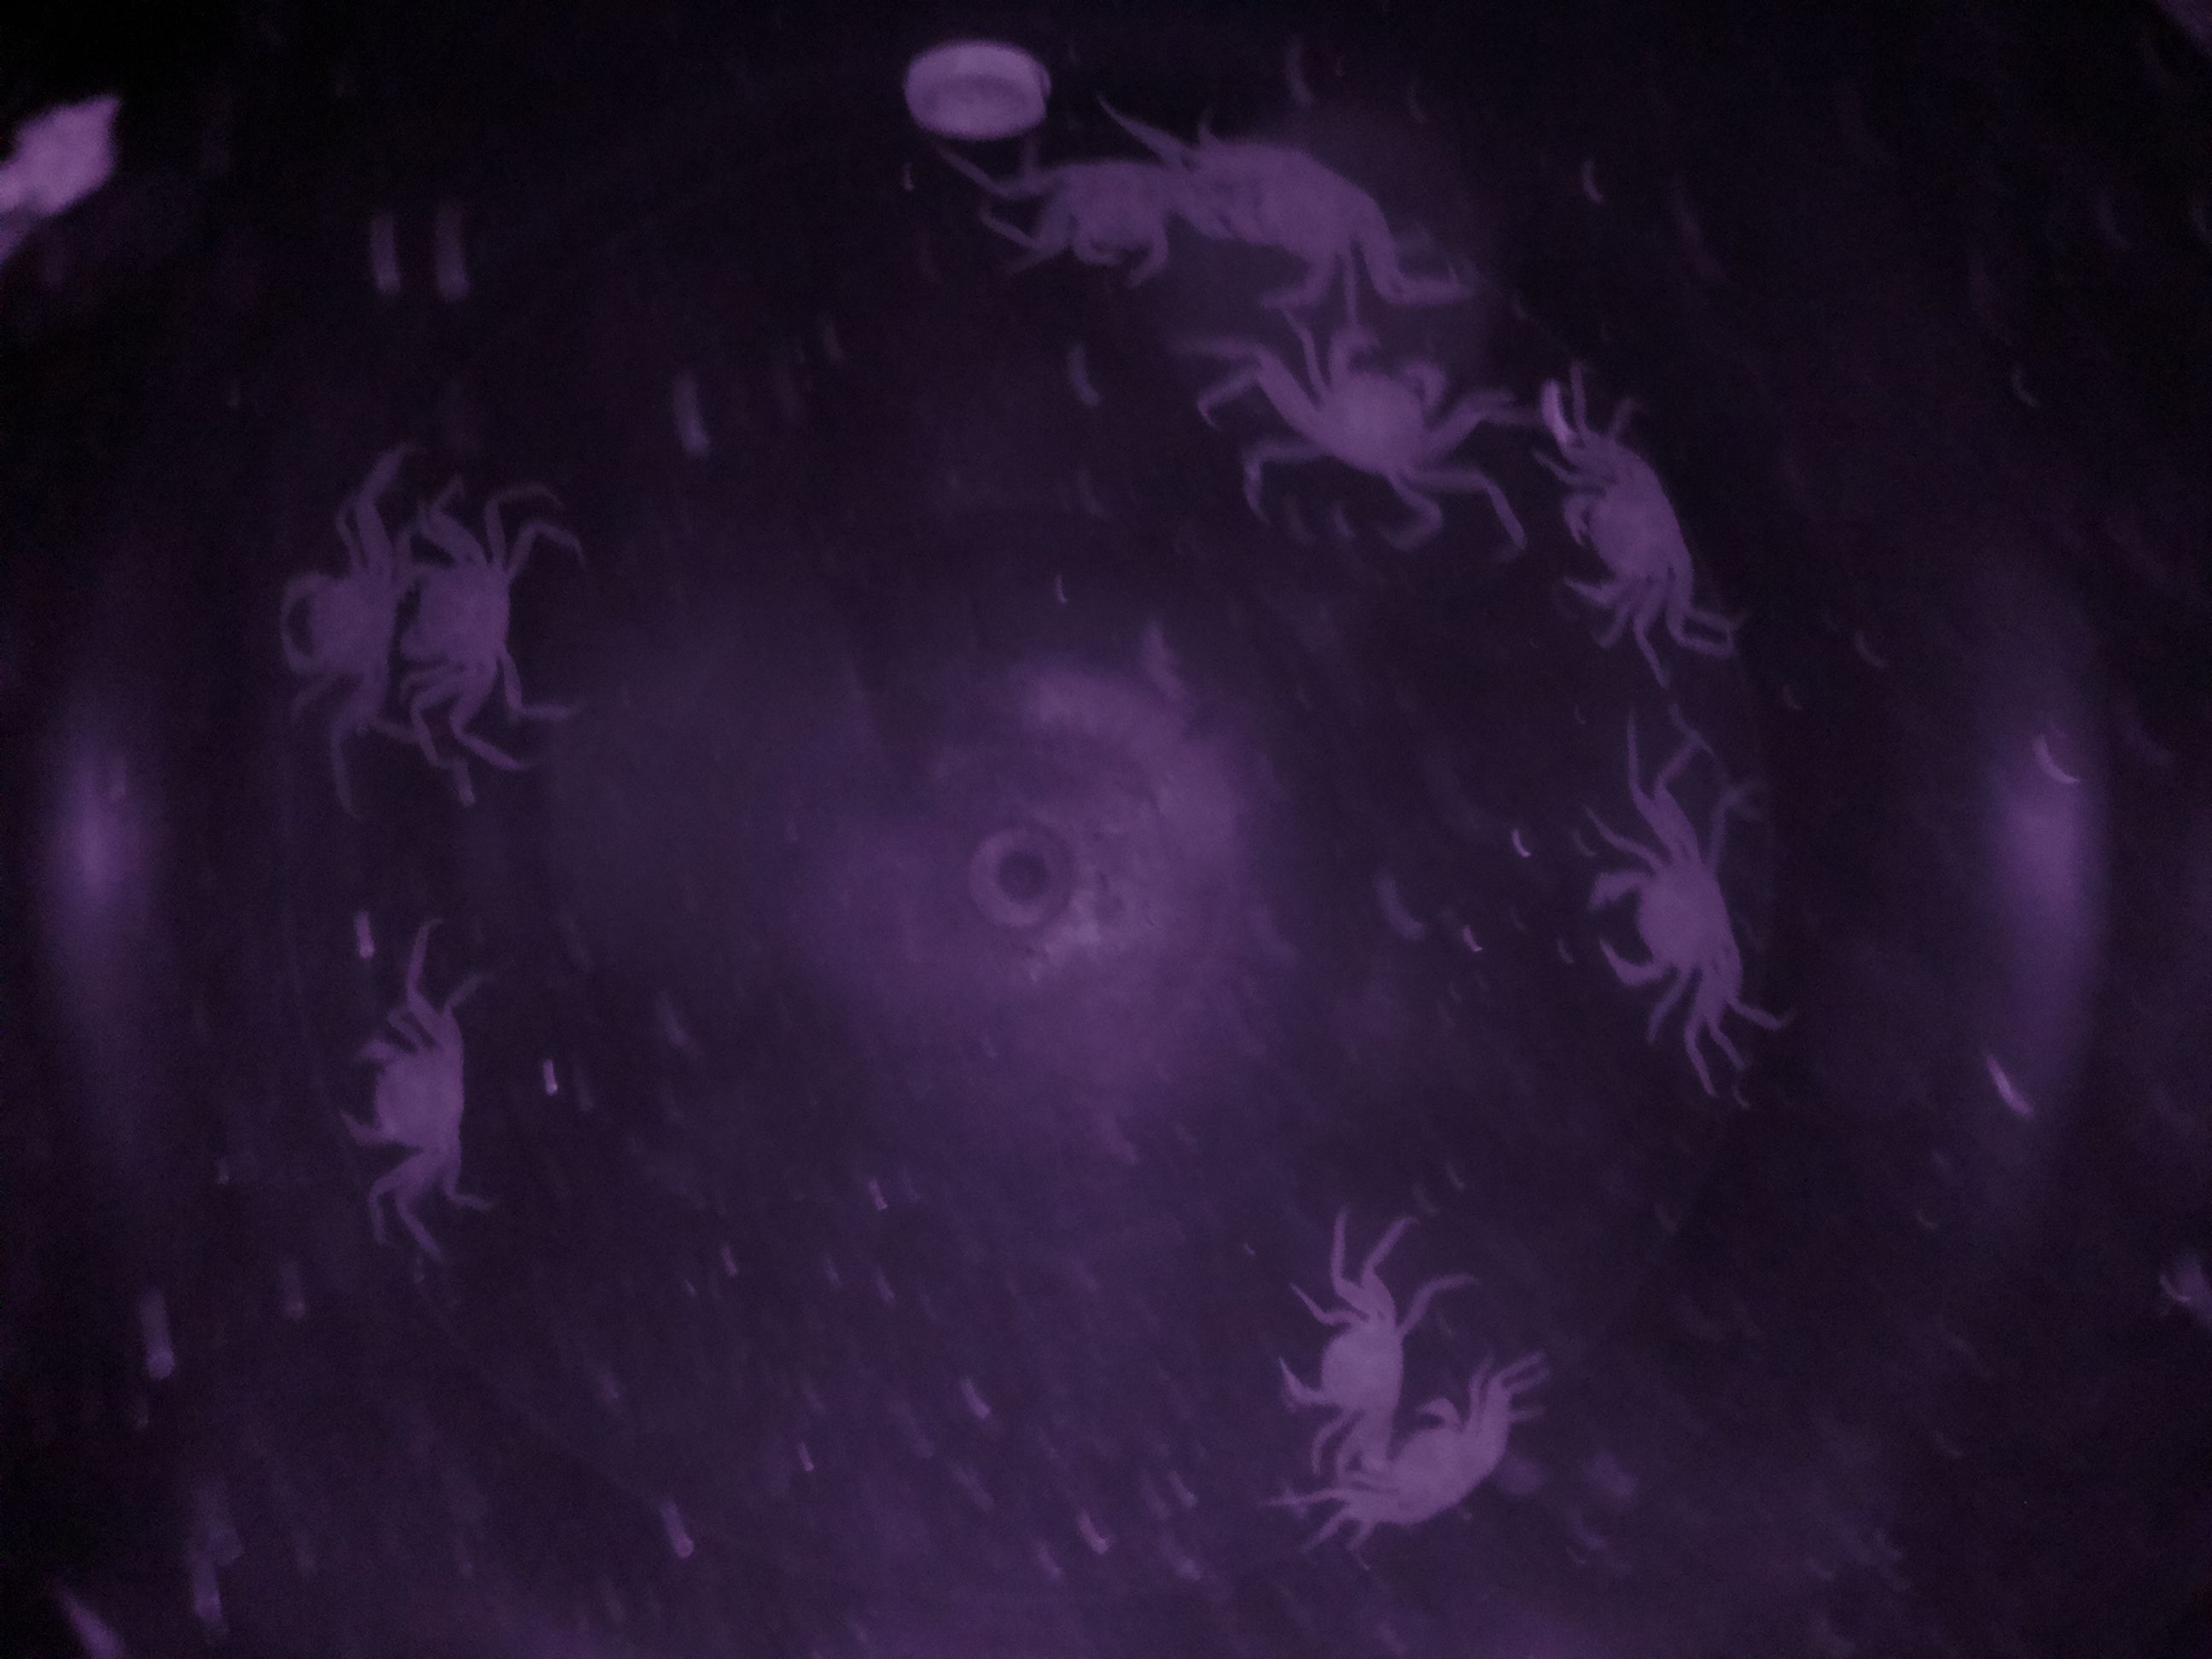Crab: (1573, 826, 1754, 1039), (1242, 324, 1484, 479), (1545, 430, 1705, 660), (326, 997, 488, 1183)
